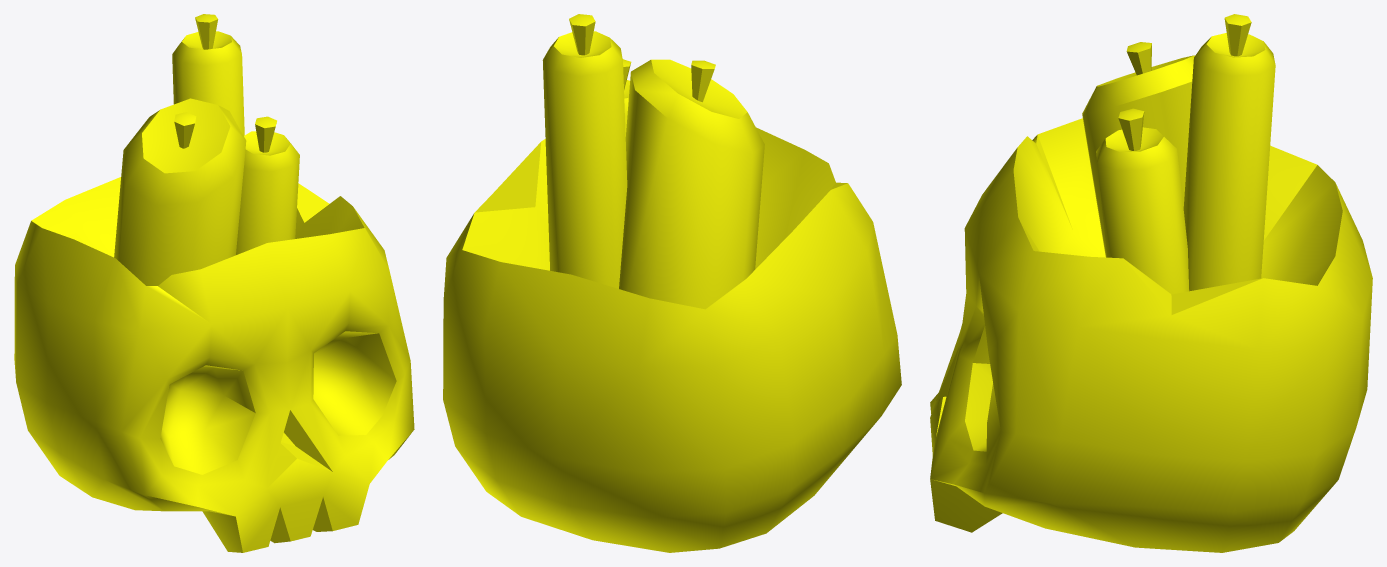
File: kaykit-skull-candle.glb
The picture shows the model from 3 angles, left to right: view 1: azimuth 30°, elevation 25°; view 2: azimuth 150°, elevation 25°; view 3: azimuth 270°, elevation 25°; orthographic projection. The views are drawn at different scales.
Visible parts, largest first — view 1: skull_candle; view 2: skull_candle; view 3: skull_candle.
Part boxes in pixels (x1,y1,x2,y2): skull_candle: (14, 14, 414, 552); skull_candle: (443, 14, 901, 552); skull_candle: (930, 14, 1372, 552).
Bounding box in the file's own units: 0.9176 × 1.19 × 0.9361.
